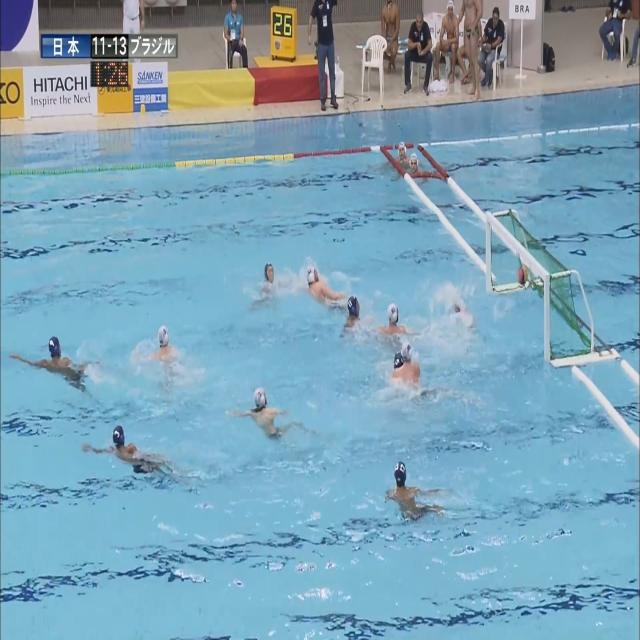ball: (518, 266, 528, 286)
